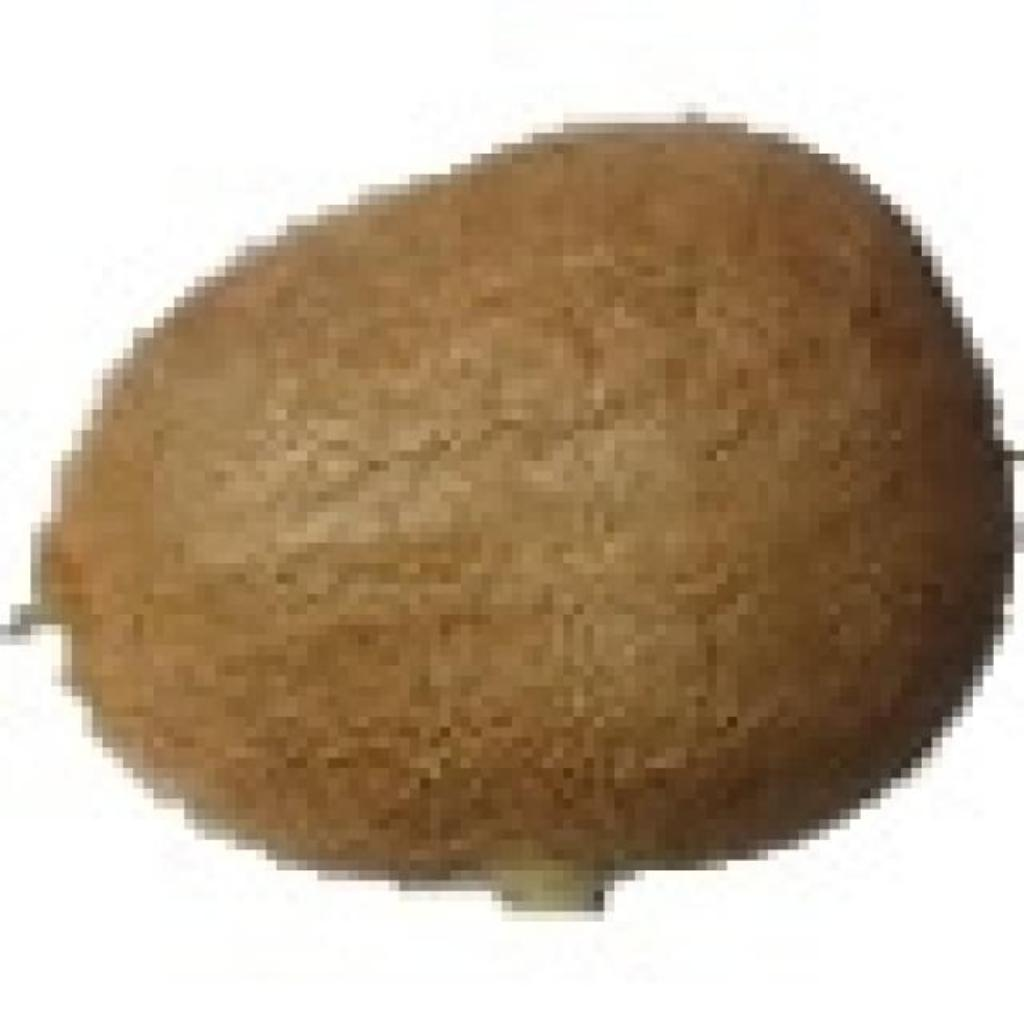kiwi: (31, 113, 993, 881)
